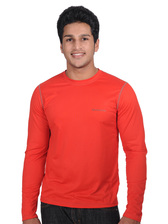clothoes: (18, 68, 148, 221)
